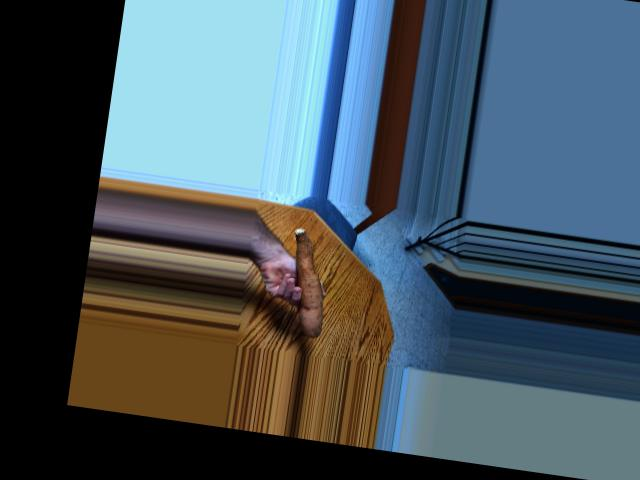sweet_potato: (279, 230, 341, 335)
